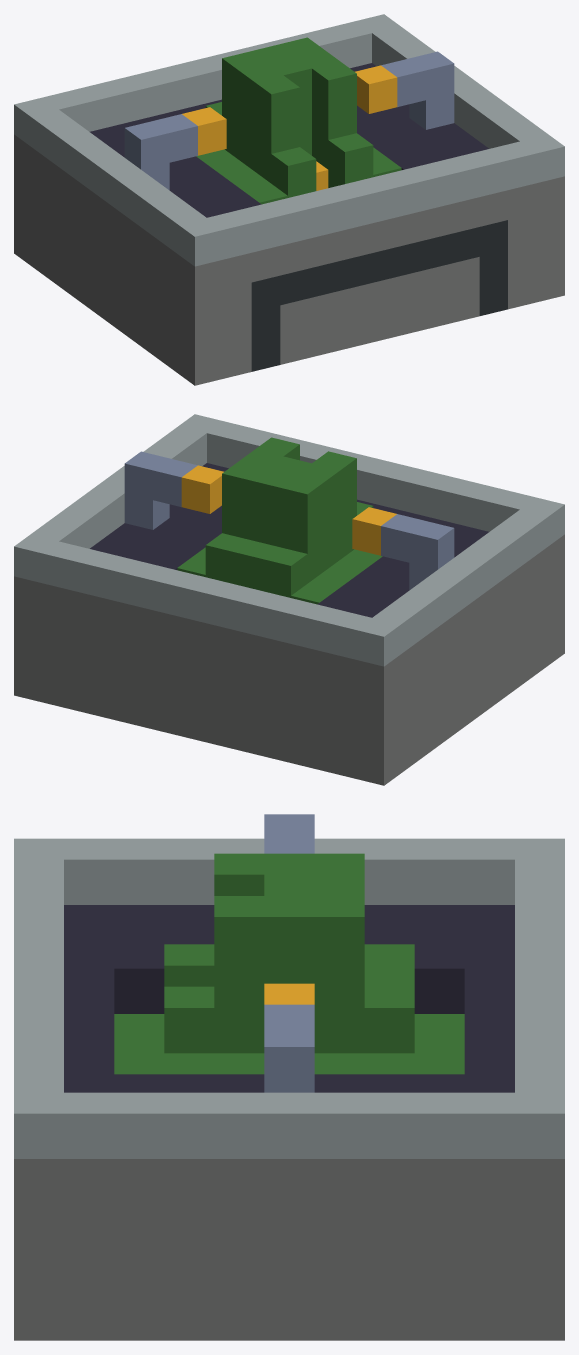
File: shop_shot_speed.obj
The picture shows the model from 3 angles, top to bottom: view 1: azimuth 30°, elevation 25°; view 2: azimuth 150°, elevation 25°; view 3: azimuth 270°, elevation 25°; orthographic projection. The views are drawn at different scales.
Size of the model in its own units: 1.3 by 0.7 by 1.1.
Materials: 1 (1 with a texture image).
